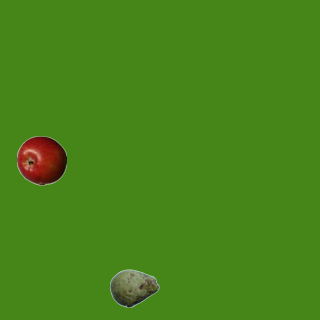Apple Braeburn: (16, 135, 66, 185)
Pear Stone: (109, 263, 159, 313)
